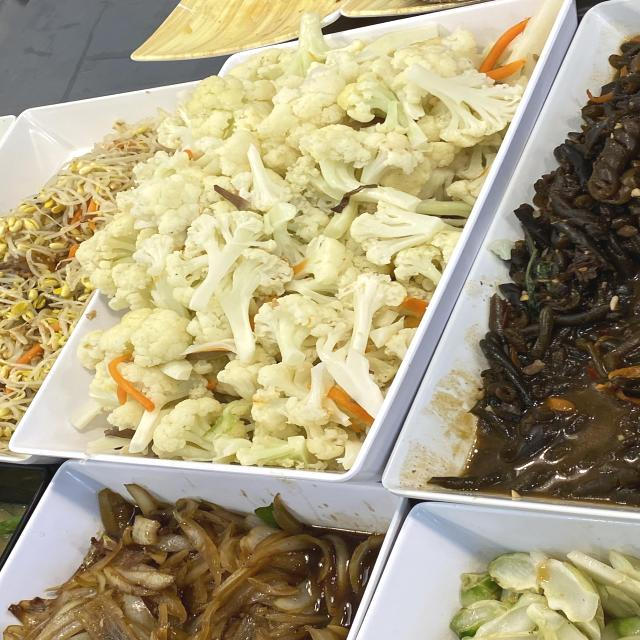cauliflower: (183, 126, 402, 350)
